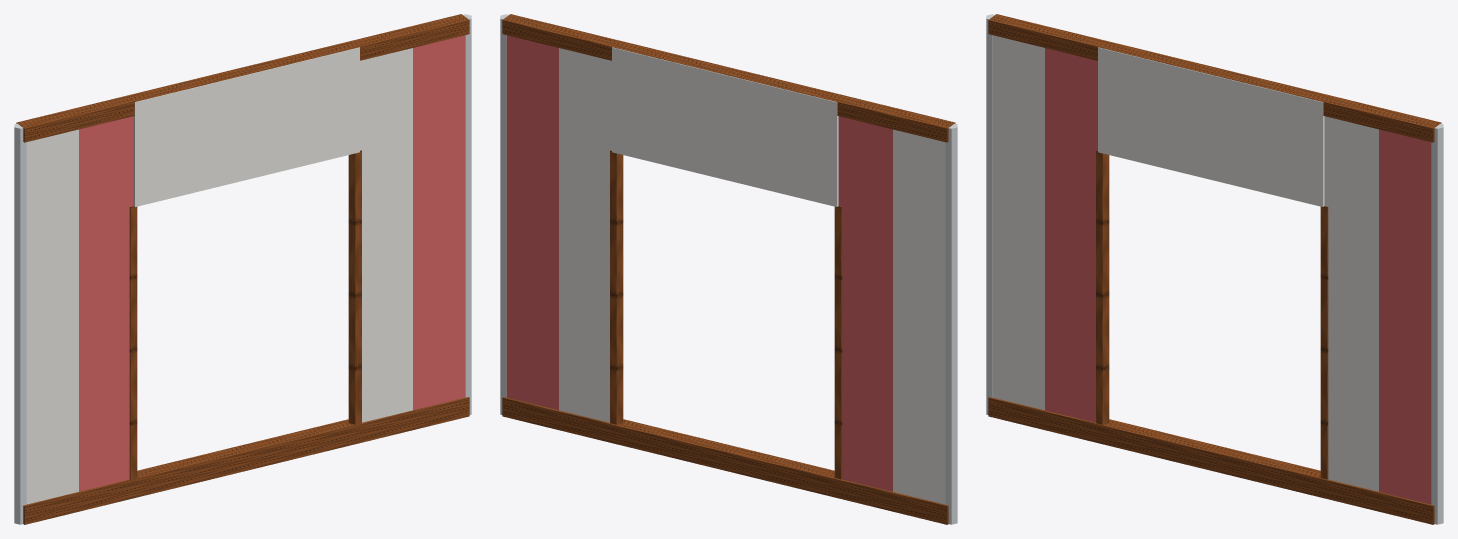
Rendered from travelling-circus-and-big-top-big-top-entrance-bay-525df035__36226.glb.
3 views of the same model, side by side, from view 1: azimuth 30°, elevation 25°; view 2: azimuth 150°, elevation 25°; view 3: azimuth 330°, elevation 25° (orthographic).
Parts seen in each view (by area): view 1: big-top-entrance-bay-canvas, big-top-entrance-bay-stripe, big-top-entrance-bay-timber, big-top-entrance-bay-steel; view 2: big-top-entrance-bay-canvas, big-top-entrance-bay-stripe, big-top-entrance-bay-timber, big-top-entrance-bay-steel; view 3: big-top-entrance-bay-canvas, big-top-entrance-bay-stripe, big-top-entrance-bay-timber, big-top-entrance-bay-steel.
Part boxes in pixels (x1,y1,x2,y2): big-top-entrance-bay-canvas: (26,47,412,504); big-top-entrance-bay-stripe: (79,35,465,491); big-top-entrance-bay-timber: (16,14,469,524); big-top-entrance-bay-steel: (14,14,471,524); big-top-entrance-bay-canvas: (559,47,945,504); big-top-entrance-bay-stripe: (506,35,892,491); big-top-entrance-bay-timber: (502,14,955,524); big-top-entrance-bay-steel: (500,14,957,524); big-top-entrance-bay-canvas: (992,35,1378,491); big-top-entrance-bay-stripe: (1045,48,1431,504); big-top-entrance-bay-timber: (988,14,1441,524); big-top-entrance-bay-steel: (986,14,1443,524).
Size of the model in its own units: 4.11 by 3.4 by 0.1401.
Materials: 4 (1 with a texture image).
